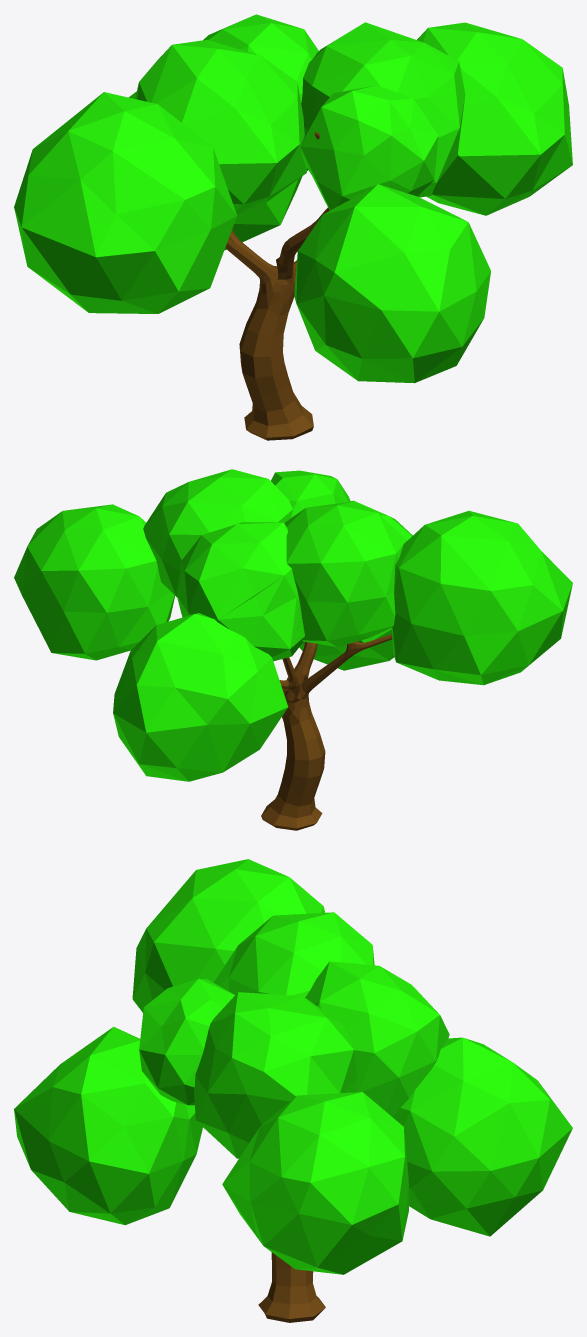
File: arvore_1.fbx
3 views of the same model, one above another, from view 1: azimuth 30°, elevation 25°; view 2: azimuth 150°, elevation 25°; view 3: azimuth 270°, elevation 25° (orthographic). The views are drawn at different scales.
Parts seen in each view (by area): view 1: Icosphere; view 2: Icosphere; view 3: Icosphere.
Part boxes in pixels (x1,y1,x2,y2): Icosphere: [14, 14, 572, 440]; Icosphere: [14, 469, 572, 830]; Icosphere: [14, 859, 572, 1322].
Size of the model in its own units: 1589 by 1010 by 1402.
